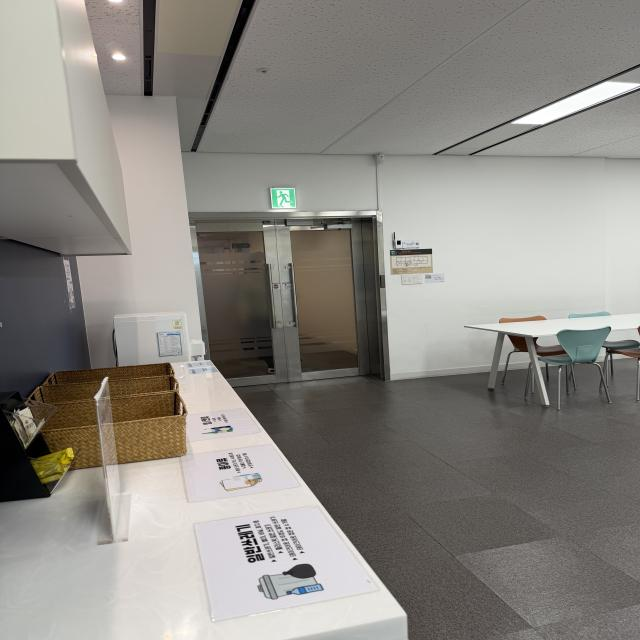rear_door: (194, 216, 377, 386)
